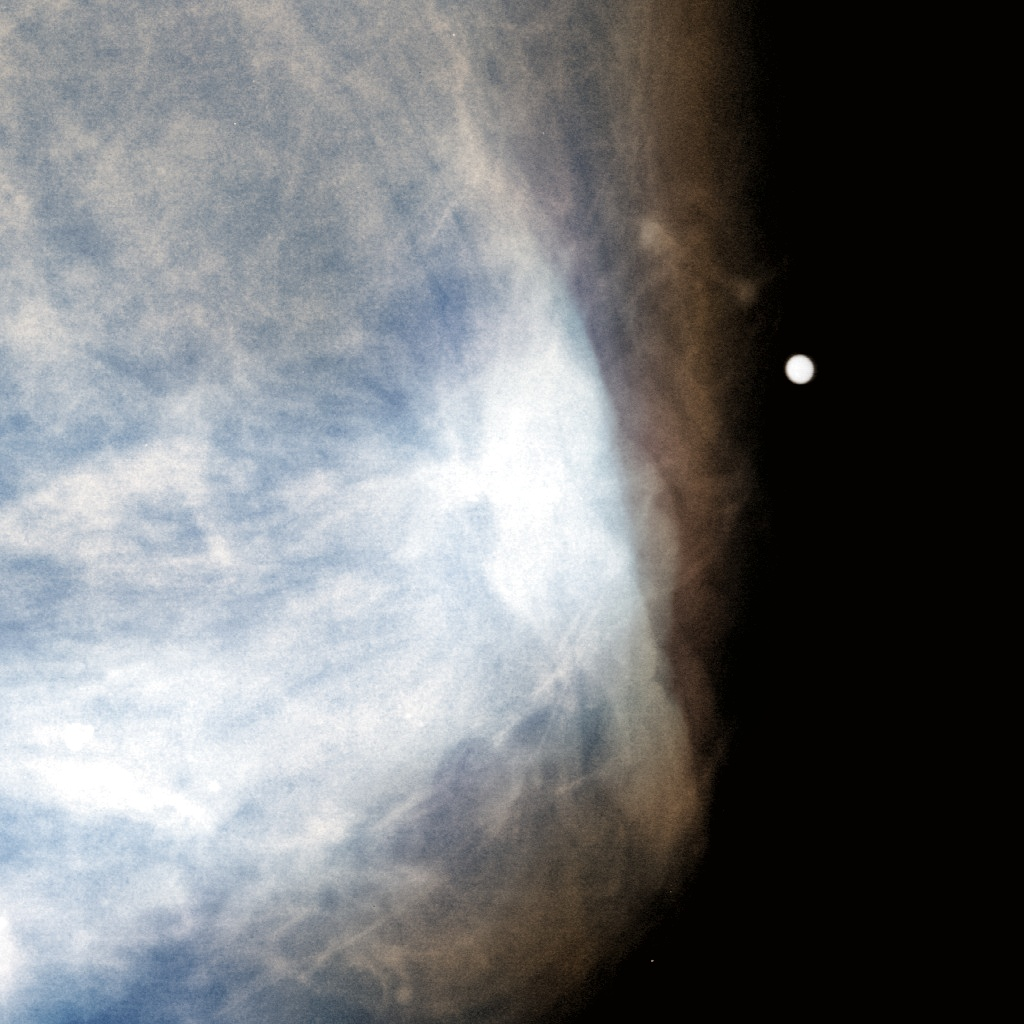tumor: (257, 126, 767, 898)
